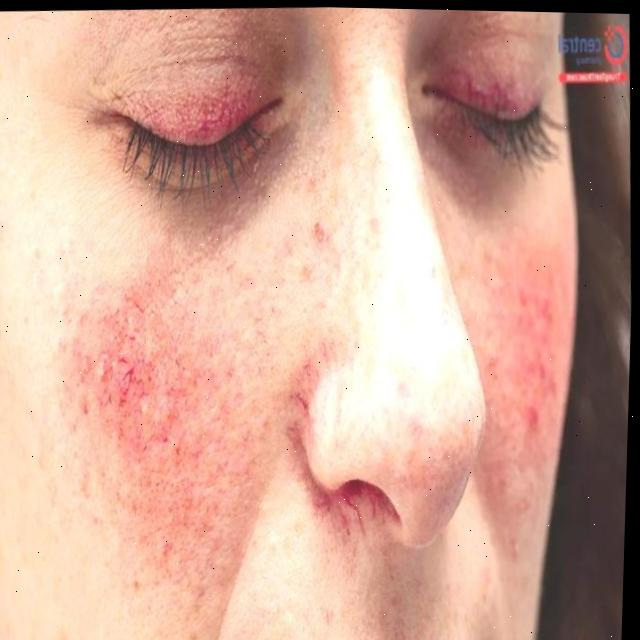Rosacea: (89, 262, 290, 557), (476, 241, 589, 438), (154, 83, 248, 140), (466, 54, 544, 109)
